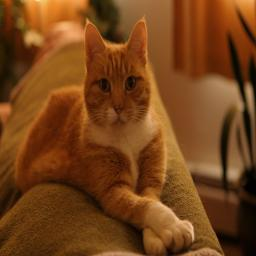catnose: (113, 103, 125, 115)
